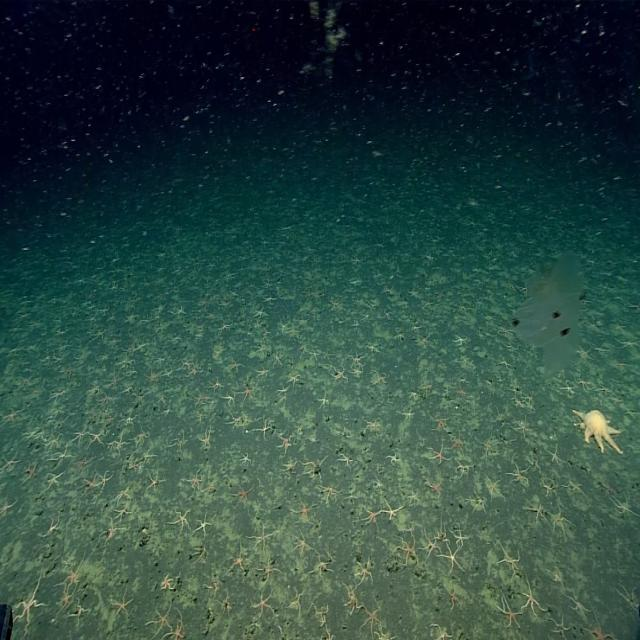brittle-stars: (613, 566, 640, 626), (15, 578, 46, 629), (358, 601, 382, 637), (521, 581, 543, 619), (248, 522, 274, 554), (499, 597, 523, 629), (304, 601, 330, 629), (199, 568, 223, 598), (498, 544, 520, 576), (398, 534, 420, 566), (587, 614, 614, 640), (288, 586, 308, 620), (545, 565, 570, 592), (151, 605, 174, 634), (62, 558, 84, 588), (18, 421, 43, 447), (110, 589, 132, 618), (290, 497, 313, 524), (129, 331, 156, 354), (216, 586, 234, 620), (21, 454, 41, 484), (442, 546, 463, 574), (193, 510, 214, 538), (537, 474, 557, 503), (252, 590, 274, 616), (311, 552, 332, 579), (567, 590, 588, 617), (526, 498, 548, 523), (552, 508, 572, 535), (259, 558, 281, 582), (303, 456, 325, 480), (384, 442, 400, 475), (170, 509, 191, 534), (343, 583, 361, 612), (376, 303, 396, 329), (230, 547, 248, 575), (101, 519, 122, 543), (207, 338, 228, 362), (245, 339, 269, 360), (551, 614, 570, 640), (481, 470, 500, 496), (96, 390, 114, 417), (233, 483, 254, 506), (613, 495, 636, 516), (45, 384, 68, 405), (191, 542, 215, 562), (524, 445, 540, 475), (41, 515, 60, 540), (167, 614, 185, 640), (381, 498, 403, 519), (190, 406, 211, 428), (450, 380, 471, 402), (50, 446, 73, 466), (421, 530, 440, 554), (58, 587, 77, 611), (0, 450, 19, 474), (355, 560, 373, 585), (307, 338, 324, 364), (510, 462, 530, 484), (360, 336, 382, 356), (132, 387, 152, 409), (468, 491, 487, 514), (145, 470, 164, 493), (292, 530, 310, 554), (412, 330, 436, 348), (160, 362, 178, 386), (512, 417, 532, 438), (48, 411, 70, 430), (450, 430, 467, 454), (44, 469, 64, 489), (319, 484, 339, 504), (71, 599, 88, 622), (432, 624, 456, 640), (431, 445, 450, 465), (103, 369, 123, 388), (361, 506, 379, 527), (548, 445, 565, 467), (172, 432, 189, 454), (0, 496, 17, 518), (426, 475, 442, 498), (144, 442, 158, 468), (112, 502, 132, 520), (448, 586, 463, 610), (2, 406, 20, 426), (319, 622, 339, 640), (161, 571, 178, 592), (276, 377, 292, 399), (298, 334, 314, 356), (44, 430, 62, 449), (186, 469, 202, 490), (452, 526, 468, 547), (120, 380, 136, 401), (110, 436, 128, 454), (564, 479, 583, 496), (83, 475, 100, 494), (134, 427, 151, 446), (257, 418, 273, 438), (508, 392, 524, 412), (482, 437, 496, 459), (364, 418, 382, 435), (434, 414, 451, 432), (574, 345, 592, 362), (74, 454, 91, 472), (97, 469, 112, 489), (193, 389, 210, 406), (340, 449, 356, 467), (280, 457, 296, 475), (114, 486, 130, 504), (326, 293, 342, 311), (619, 338, 638, 353), (198, 428, 212, 448), (278, 433, 292, 453), (200, 474, 214, 494), (241, 384, 256, 402), (72, 426, 87, 444), (352, 292, 365, 312), (350, 350, 366, 366), (231, 363, 247, 379), (373, 370, 388, 387), (591, 342, 608, 357), (457, 459, 472, 476), (576, 375, 590, 393), (318, 389, 330, 409), (228, 358, 244, 373), (596, 382, 612, 397), (408, 488, 421, 506), (322, 362, 340, 375), (273, 348, 285, 367), (145, 371, 160, 386), (90, 430, 104, 446), (186, 362, 200, 378), (124, 411, 138, 427), (601, 481, 615, 497), (402, 408, 416, 423), (255, 362, 269, 377), (453, 334, 468, 348), (350, 364, 365, 378), (253, 305, 267, 320), (498, 356, 512, 371), (334, 366, 347, 382), (222, 392, 235, 408), (227, 412, 240, 428), (288, 373, 302, 387), (562, 381, 575, 396), (406, 387, 419, 402), (361, 310, 374, 325), (210, 378, 223, 392), (264, 291, 278, 304), (296, 313, 308, 328), (279, 317, 290, 333), (218, 320, 231, 333), (128, 458, 140, 472), (371, 478, 383, 492), (241, 451, 252, 466), (175, 304, 186, 318), (524, 392, 535, 406), (242, 413, 252, 428), (322, 348, 332, 361)
